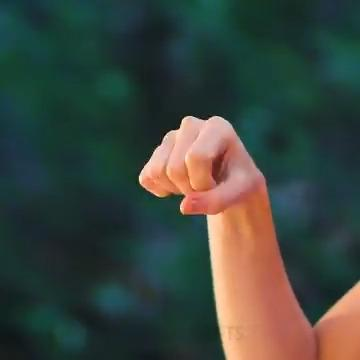Yes: (115, 82, 268, 262)
